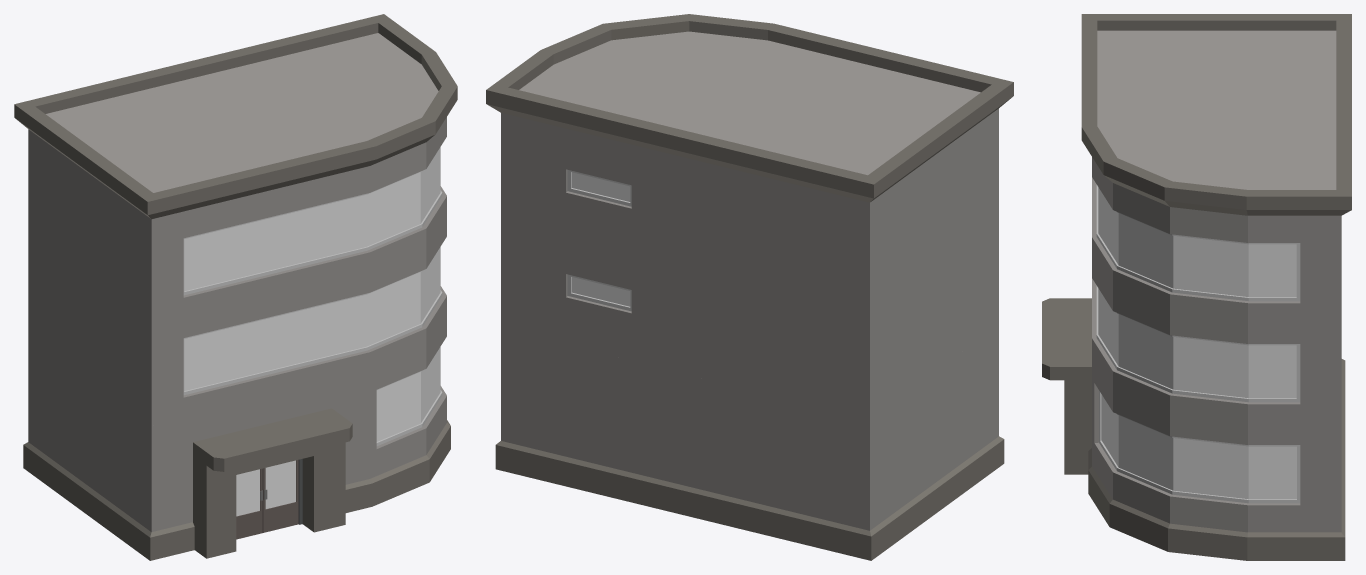
File: SM_Bldg_City_Commercial_07.fbx
3 views of the same model, side by side, from view 1: azimuth 30°, elevation 25°; view 2: azimuth 150°, elevation 25°; view 3: azimuth 270°, elevation 25° (orthographic). The views are drawn at different scales.
Visible parts, largest first — view 1: SM_Bldg_City_Commercial_07, SM_Bldg_City_Commercial_07_Glass; view 2: SM_Bldg_City_Commercial_07, SM_Bldg_City_Commercial_07_Glass; view 3: SM_Bldg_City_Commercial_07, SM_Bldg_City_Commercial_07_Glass.
Part boxes in pixels (box(x1,y1,x2,y2)): SM_Bldg_City_Commercial_07: box(14, 14, 457, 560); SM_Bldg_City_Commercial_07_Glass: box(184, 147, 440, 441); SM_Bldg_City_Commercial_07: box(486, 14, 1013, 560); SM_Bldg_City_Commercial_07_Glass: box(572, 172, 630, 306); SM_Bldg_City_Commercial_07: box(1042, 14, 1351, 560); SM_Bldg_City_Commercial_07_Glass: box(1098, 187, 1296, 499).
Size of the model in its own units: 1163 by 1090 by 834.
